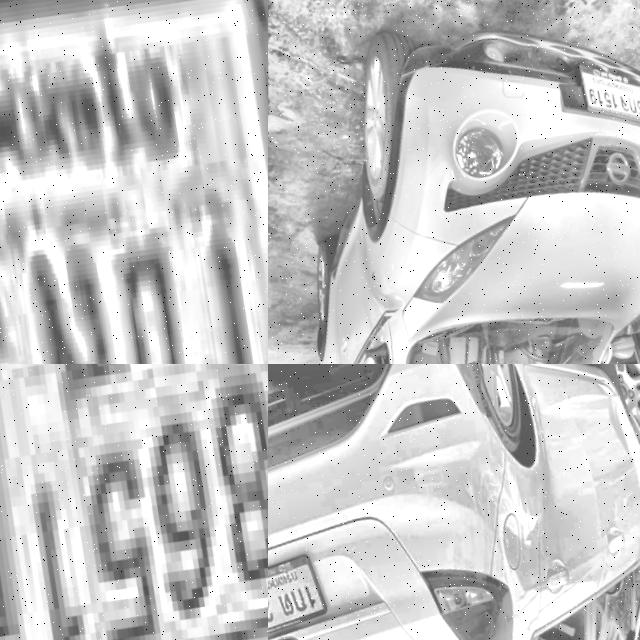license-plate: (0, 0, 268, 364), (0, 364, 268, 640), (268, 535, 344, 640), (574, 42, 640, 132)
